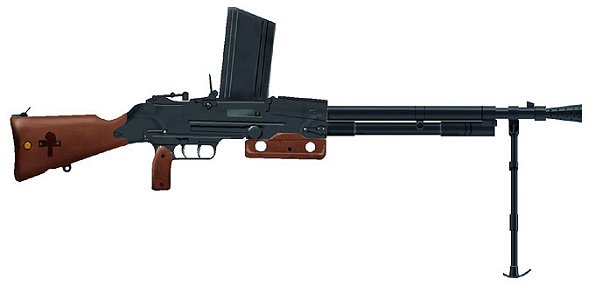rifle: (14, 21, 591, 284)
